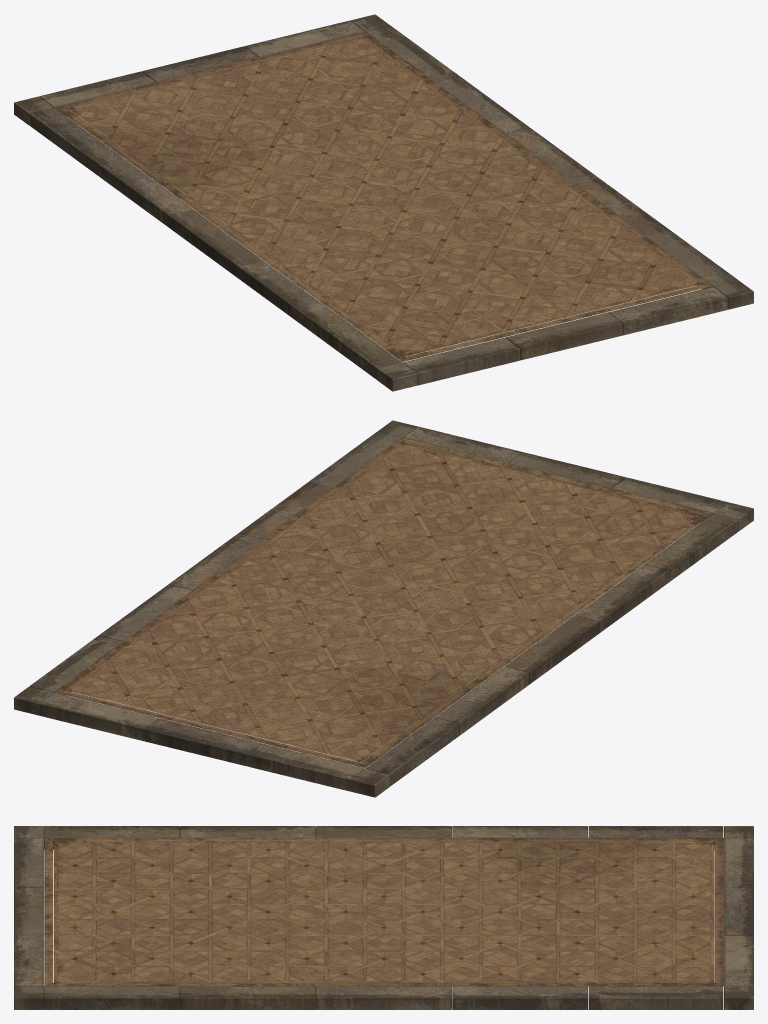
Rendered from fancy_old_tiled_floor (1).glb.
3 views of the same model, one above another, from view 1: azimuth 30°, elevation 25°; view 2: azimuth 150°, elevation 25°; view 3: azimuth 270°, elevation 25° (orthographic). The views are drawn at different scales.
Parts seen in each view (by area): view 1: Floor, Marble; view 2: Floor, Marble; view 3: Floor, Marble.
Boxes of the visible parts, x1,y1,x2,y2 form: Floor: [55, 31, 713, 361]; Marble: [14, 14, 753, 391]; Floor: [54, 437, 712, 767]; Marble: [14, 420, 753, 797]; Floor: [44, 838, 723, 986]; Marble: [14, 826, 753, 1009].
Bounding box in the file's own units: 7.57 × 0.2404 × 13.74.
Materials: 2 (2 with a texture image).
